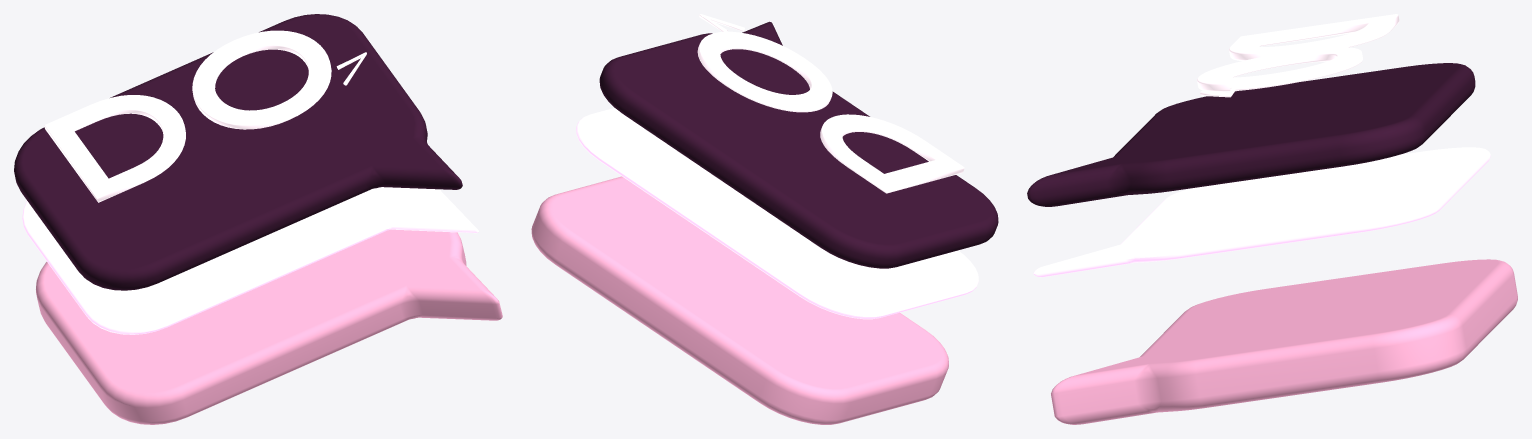
Rendered from do-portable.glb.
3 views of the same model, side by side, from view 1: azimuth 30°, elevation 25°; view 2: azimuth 150°, elevation 25°; view 3: azimuth 270°, elevation 25° (orthographic). The views are drawn at different scales.
Parts seen in each view (by area): view 1: 03 / working surface, 01 / portable frame, 02 / light seam, 04 / DO; view 2: 01 / portable frame, 03 / working surface, 02 / light seam, 04 / DO; view 3: 01 / portable frame, 03 / working surface, 02 / light seam, 04 / DO.
Part boxes in pixels (x1,y1,x2,y2): 03 / working surface: (14, 14, 462, 290); 01 / portable frame: (36, 229, 502, 424); 02 / light seam: (22, 187, 478, 334); 04 / DO: (44, 30, 331, 202); 01 / portable frame: (531, 176, 948, 424); 03 / working surface: (599, 21, 998, 268); 02 / light seam: (576, 108, 978, 319); 04 / DO: (697, 31, 964, 193); 01 / portable frame: (1051, 259, 1517, 424); 03 / working surface: (1027, 63, 1475, 206); 02 / light seam: (1033, 147, 1490, 277); 04 / DO: (1197, 14, 1399, 91).
Size of the model in its own units: 3.72 by 2.95 by 3.34.
